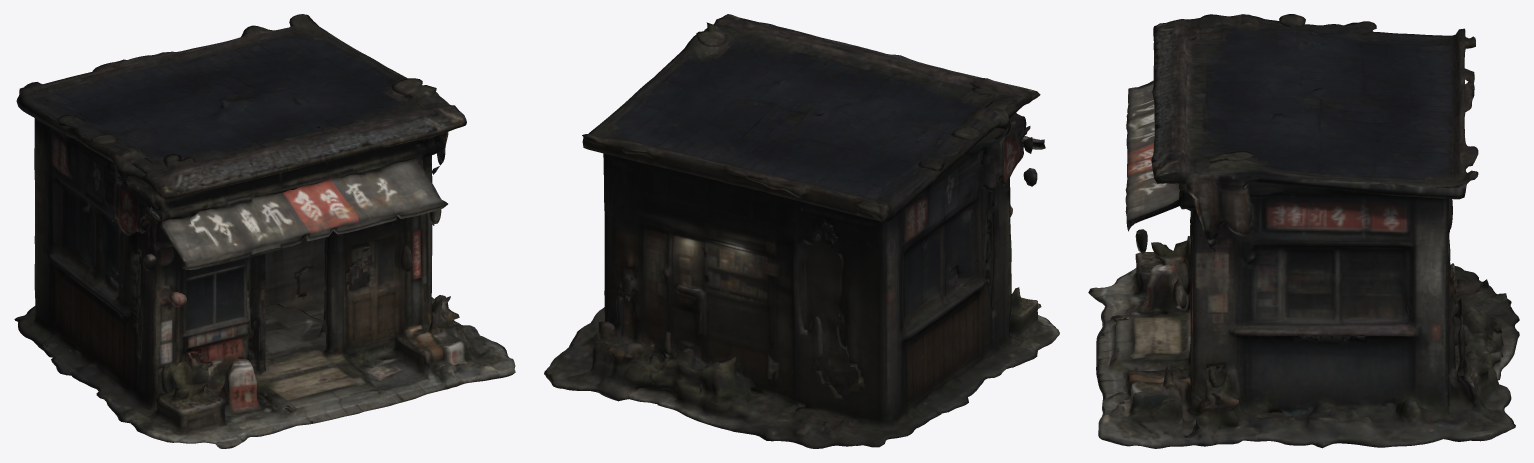
File: Create_a_little_store_0422083328_refine.fbx
3 renders of one model, left to right at view 1: azimuth 30°, elevation 25°; view 2: azimuth 150°, elevation 25°; view 3: azimuth 270°, elevation 25°, orthographic. The views are drawn at different scales.
Visible parts, largest first — view 1: Mesh1; view 2: Mesh1; view 3: Mesh1.
Part boxes in pixels (left/top/right/bottom): Mesh1: left=14, top=14, right=515, bottom=448; Mesh1: left=544, top=14, right=1059, bottom=448; Mesh1: left=1088, top=14, right=1519, bottom=448.
Bounding box in the file's own units: 198 × 133 × 194.
1 material, 1 textured.
